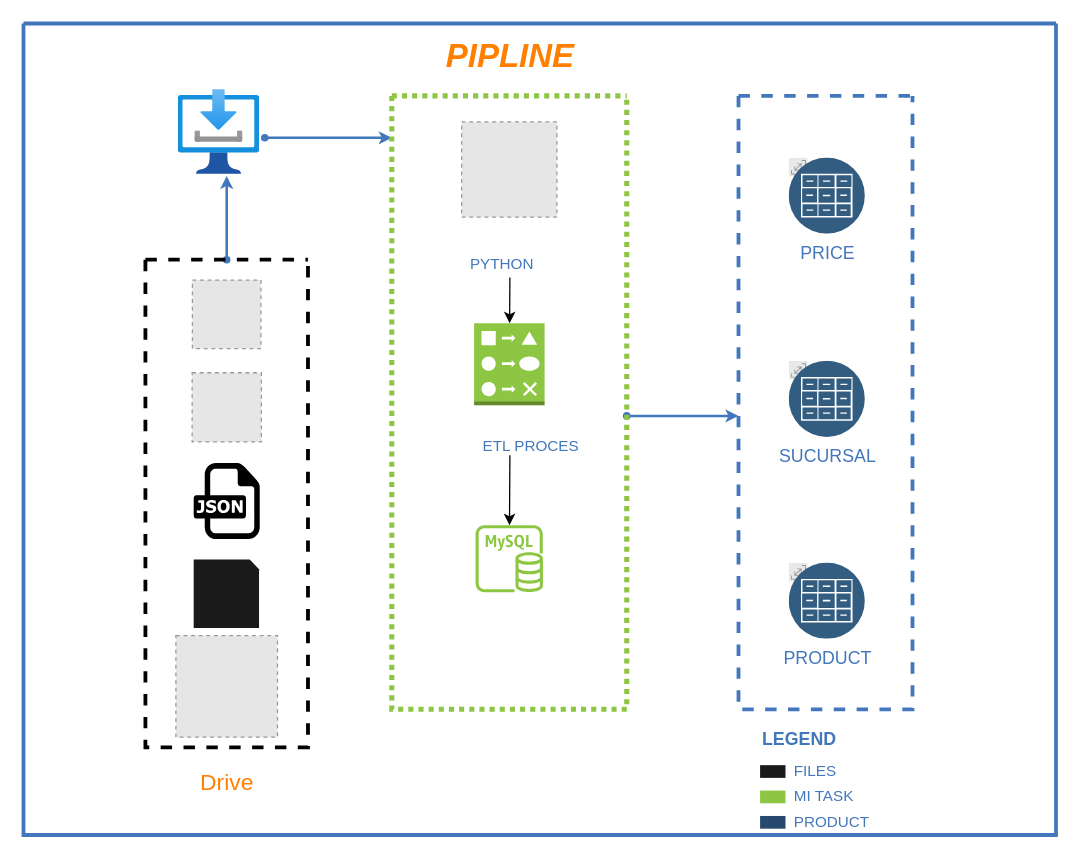
This 1080x859 diagram has some shape labels left out. Grey dashed boxes stand in for pictures. The centre of each missing label's shape, as x and y in pixels:
DESCARGA: the point at 218,131
MySQL: the point at 508,558
PARQUET: the point at 226,593
